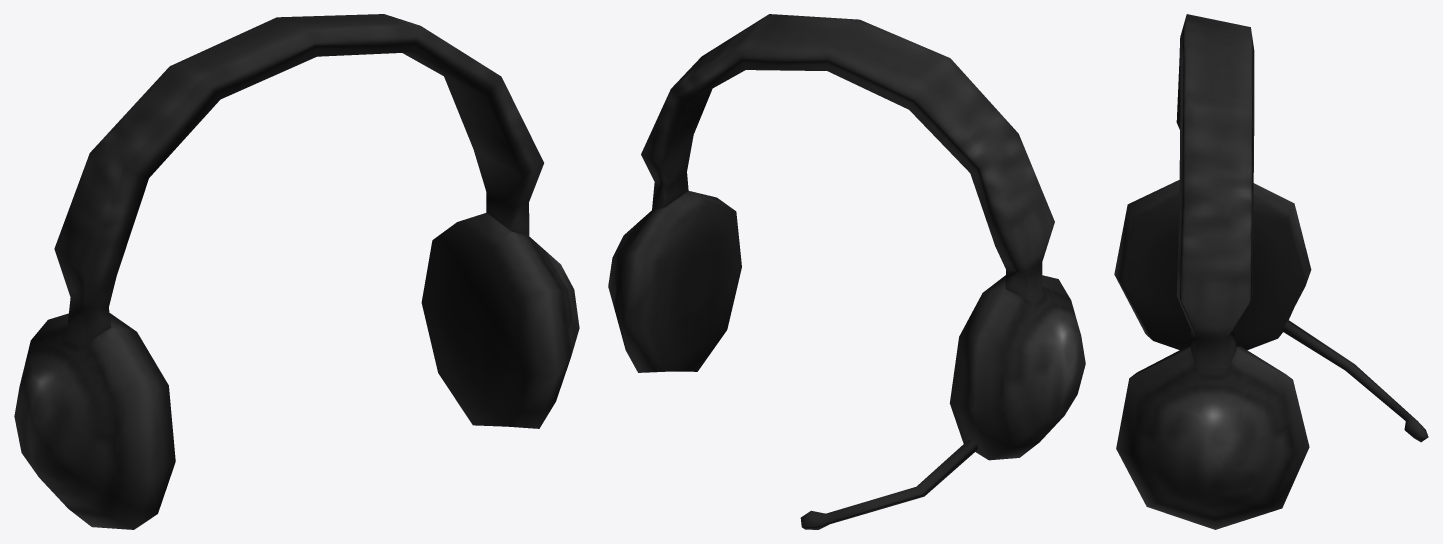
Rendered from headphone3.glb.
The picture shows the model from 3 angles, left to right: view 1: azimuth 30°, elevation 25°; view 2: azimuth 150°, elevation 25°; view 3: azimuth 270°, elevation 25°; orthographic projection. The views are drawn at different scales.
Visible parts, largest first — view 1: headphone3; view 2: headphone3; view 3: headphone3.
Boxes of the visible parts, x1=… form: headphone3: x1=14, y1=14, x2=579, y2=529; headphone3: x1=608, y1=14, x2=1085, y2=529; headphone3: x1=1114, y1=14, x2=1428, y2=529.
Bounding box in the file's own units: 0.314 × 0.2771 × 0.1837.
Materials: 1 (1 with a texture image).
